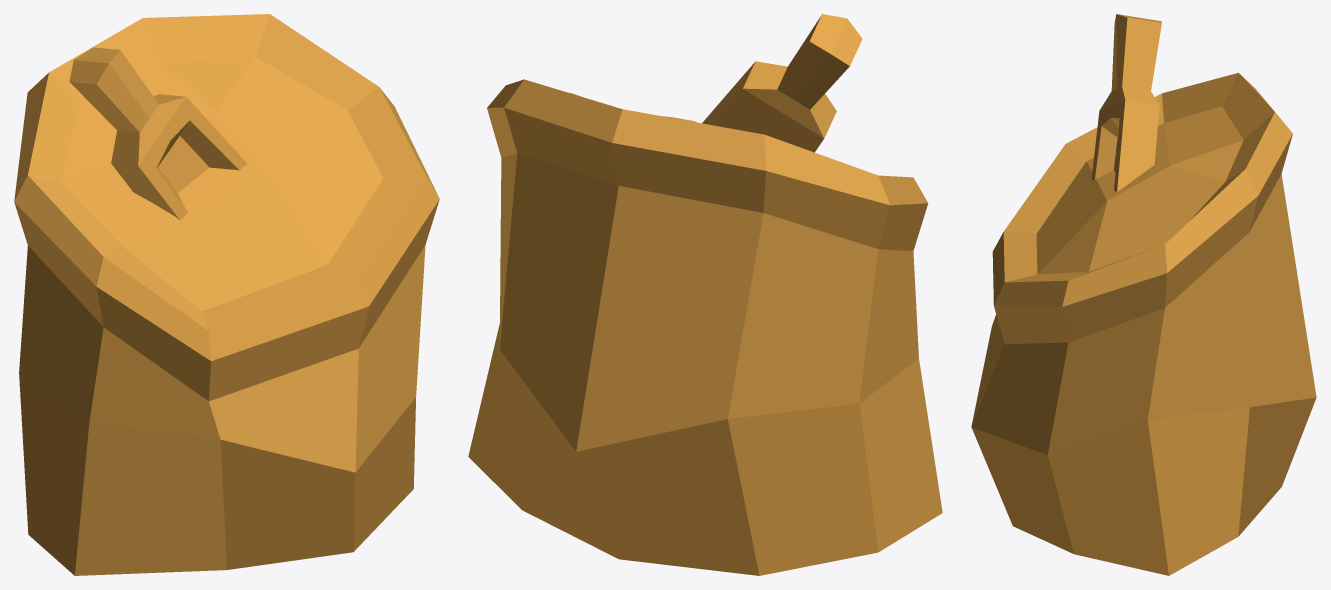
File: farm-wheat-flour.glb
The picture shows the model from 3 angles, left to right: view 1: azimuth 30°, elevation 25°; view 2: azimuth 150°, elevation 25°; view 3: azimuth 270°, elevation 25°; orthographic projection. The views are drawn at different scales.
Visible parts, largest first — view 1: wheat-flour; view 2: wheat-flour; view 3: wheat-flour.
Part boxes in pixels (x1,y1,x2,y2): wheat-flour: (14, 14, 439, 575); wheat-flour: (468, 14, 942, 575); wheat-flour: (971, 14, 1316, 575).
Size of the model in its own units: 0.5773 by 0.6936 by 0.4912.
